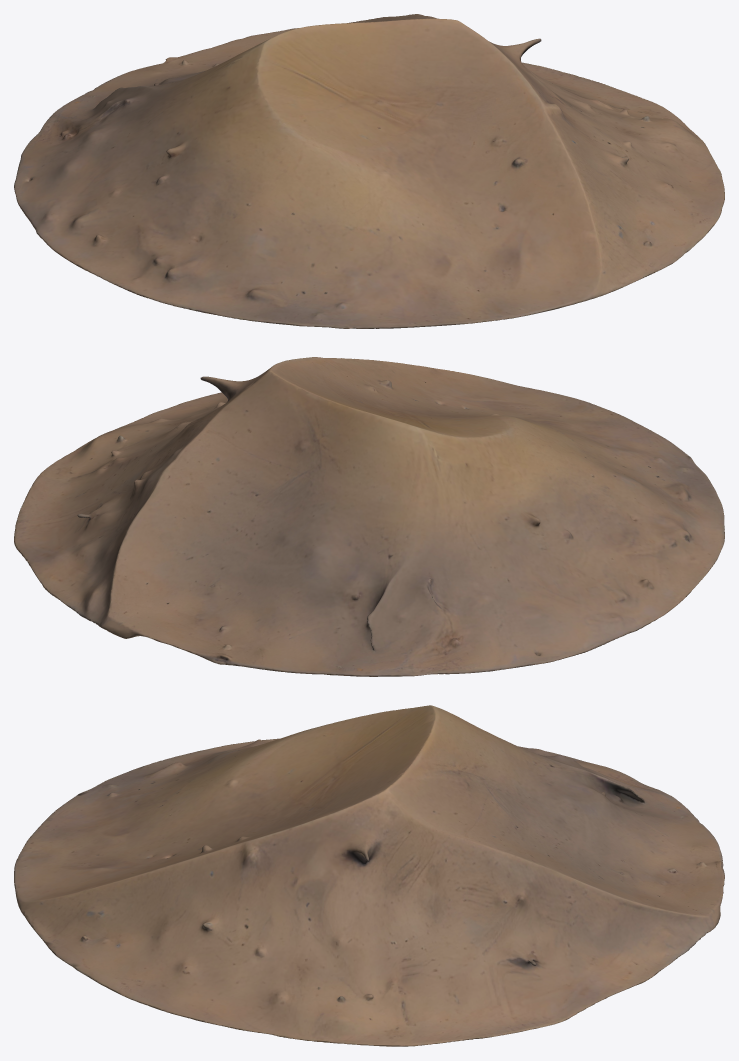
Rendered from nature-sand-dune.glb.
The picture shows the model from 3 angles, top to bottom: view 1: azimuth 30°, elevation 25°; view 2: azimuth 150°, elevation 25°; view 3: azimuth 270°, elevation 25°; orthographic projection.
Visible parts, largest first — view 1: tripo_node_f7d1f623-ce9b-4c1a-b2bf-287f4cb383b2; view 2: tripo_node_f7d1f623-ce9b-4c1a-b2bf-287f4cb383b2; view 3: tripo_node_f7d1f623-ce9b-4c1a-b2bf-287f4cb383b2.
Part boxes in pixels (box(x1,y1,x2,y2)): tripo_node_f7d1f623-ce9b-4c1a-b2bf-287f4cb383b2: box(14, 14, 724, 328); tripo_node_f7d1f623-ce9b-4c1a-b2bf-287f4cb383b2: box(14, 357, 724, 676); tripo_node_f7d1f623-ce9b-4c1a-b2bf-287f4cb383b2: box(14, 705, 724, 1046).
Bounding box in the file's own units: 12.13 × 5 × 12.06.
Materials: 1 (1 with a texture image).
